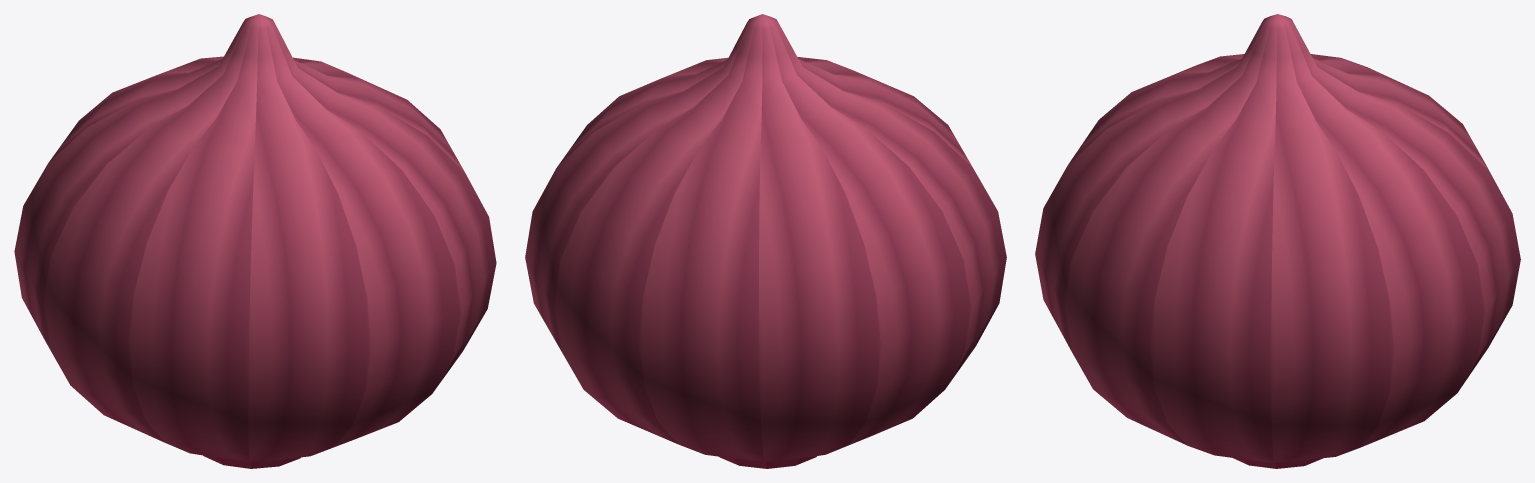
The model's file is Onion.fbx.
3 renders of one model, left to right at view 1: azimuth 30°, elevation 25°; view 2: azimuth 150°, elevation 25°; view 3: azimuth 270°, elevation 25°, orthographic.
Visible parts, largest first — view 1: Onion; view 2: Onion; view 3: Onion.
Boxes of the visible parts, bbox=[...] form: Onion: bbox=[14, 14, 496, 468]; Onion: bbox=[525, 14, 1006, 468]; Onion: bbox=[1035, 14, 1520, 468].
Size of the model in its own units: 4.78 by 4.78 by 4.78.
